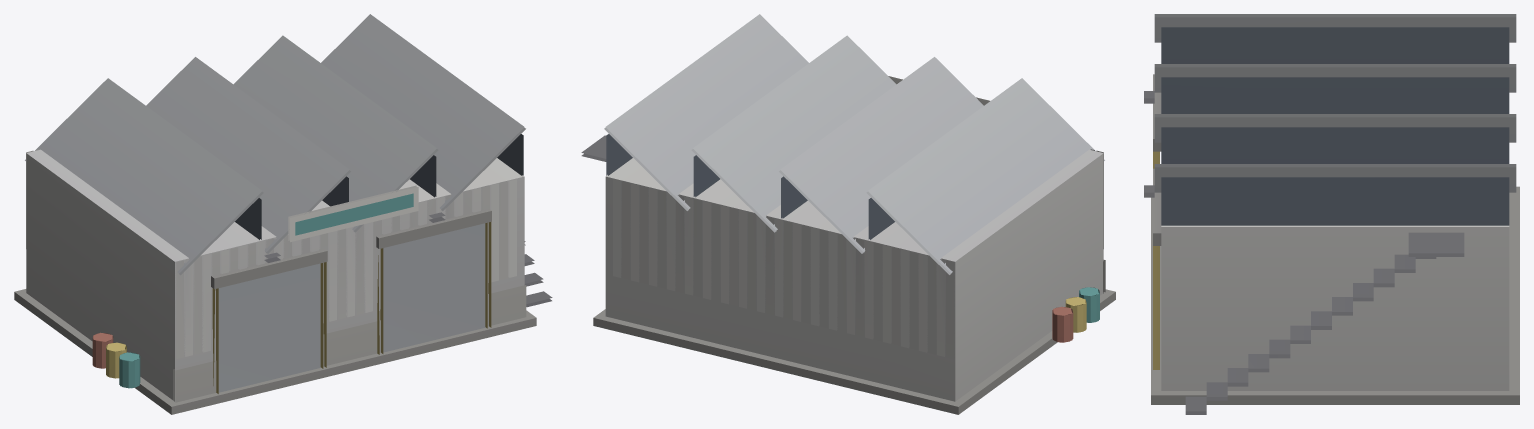
File: fc_workshop.lod.glb
3 views of the same model, side by side, from view 1: azimuth 30°, elevation 25°; view 2: azimuth 150°, elevation 25°; view 3: azimuth 270°, elevation 25° (orthographic). The views are drawn at different scales.
Visible parts, largest first — view 1: fc_workshop; view 2: fc_workshop; view 3: fc_workshop.
Boxes of the visible parts, left/top/right/bottom form: fc_workshop: left=14, top=14, right=552, bottom=414; fc_workshop: left=581, top=14, right=1115, bottom=414; fc_workshop: left=1144, top=14, right=1519, bottom=414.
Bounding box in the file's own units: 16.27 × 7.45 × 10.8.
